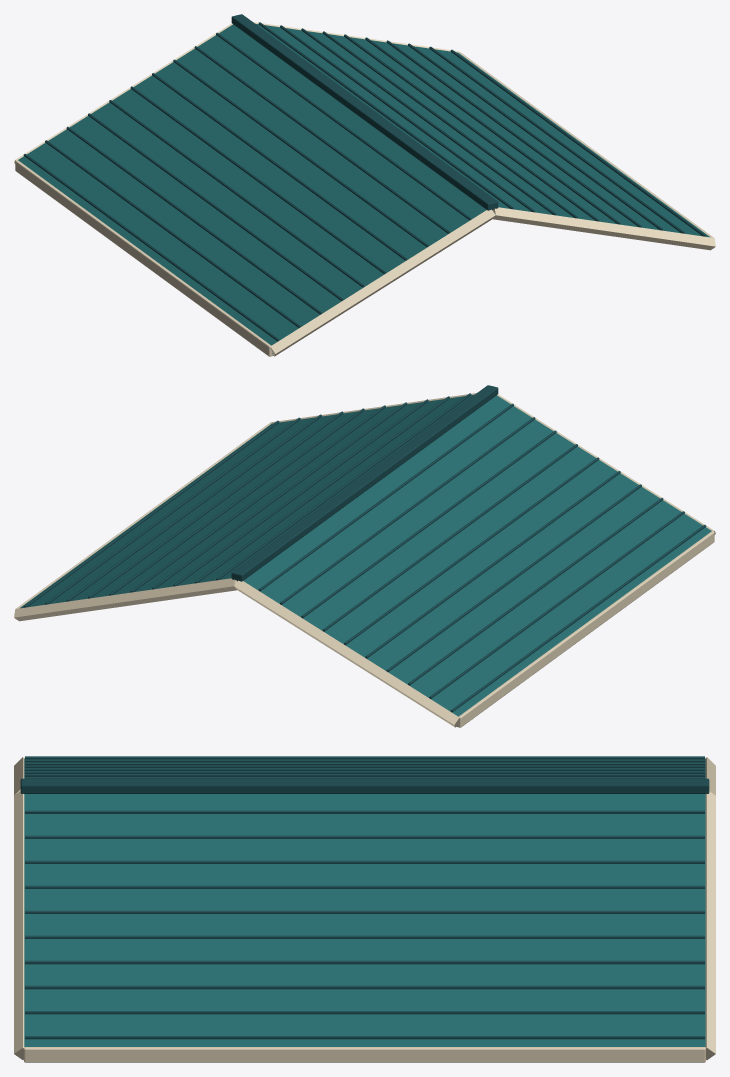
The model's file is saw-shed-roof.glb.
3 renders of one model, top to bottom at view 1: azimuth 30°, elevation 25°; view 2: azimuth 150°, elevation 25°; view 3: azimuth 270°, elevation 25°, orthographic. The views are drawn at different scales.
Parts seen in each view (by area): view 1: saw-shed-roof-roof-timber-teal, saw-shed-roof-roof-timber-teal-dark, saw-shed-roof-roof-timber-cream; view 2: saw-shed-roof-roof-timber-teal, saw-shed-roof-roof-timber-teal-dark, saw-shed-roof-roof-timber-cream; view 3: saw-shed-roof-roof-timber-teal, saw-shed-roof-roof-timber-teal-dark, saw-shed-roof-roof-timber-cream.
Boxes of the visible parts, x1,y1,x2,y2 form: saw-shed-roof-roof-timber-teal: [18, 23, 709, 353]; saw-shed-roof-roof-timber-teal-dark: [23, 14, 706, 341]; saw-shed-roof-roof-timber-cream: [14, 22, 715, 356]; saw-shed-roof-roof-timber-teal: [20, 394, 711, 716]; saw-shed-roof-roof-timber-teal-dark: [23, 385, 706, 712]; saw-shed-roof-roof-timber-cream: [14, 393, 715, 727]; saw-shed-roof-roof-timber-teal: [24, 758, 705, 1046]; saw-shed-roof-roof-timber-teal-dark: [20, 756, 709, 1039]; saw-shed-roof-roof-timber-cream: [14, 757, 715, 1062].
Size of the model in its own units: 6.58 by 1.43 by 6.69.
